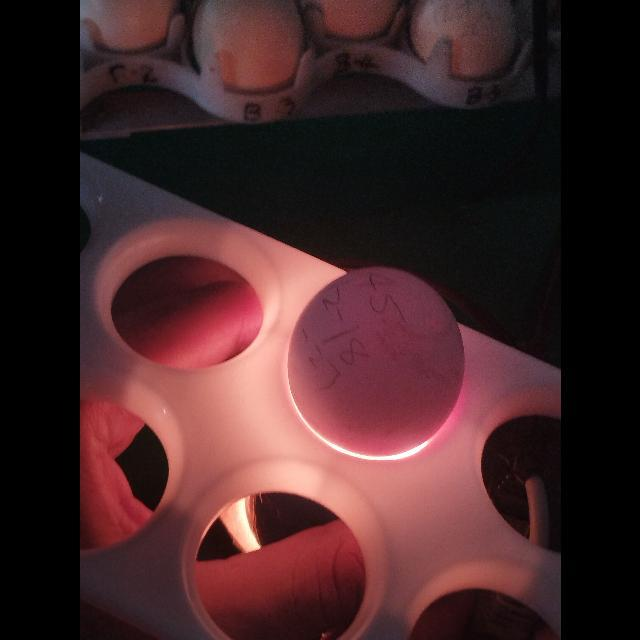Fertile: (287, 260, 471, 458)
